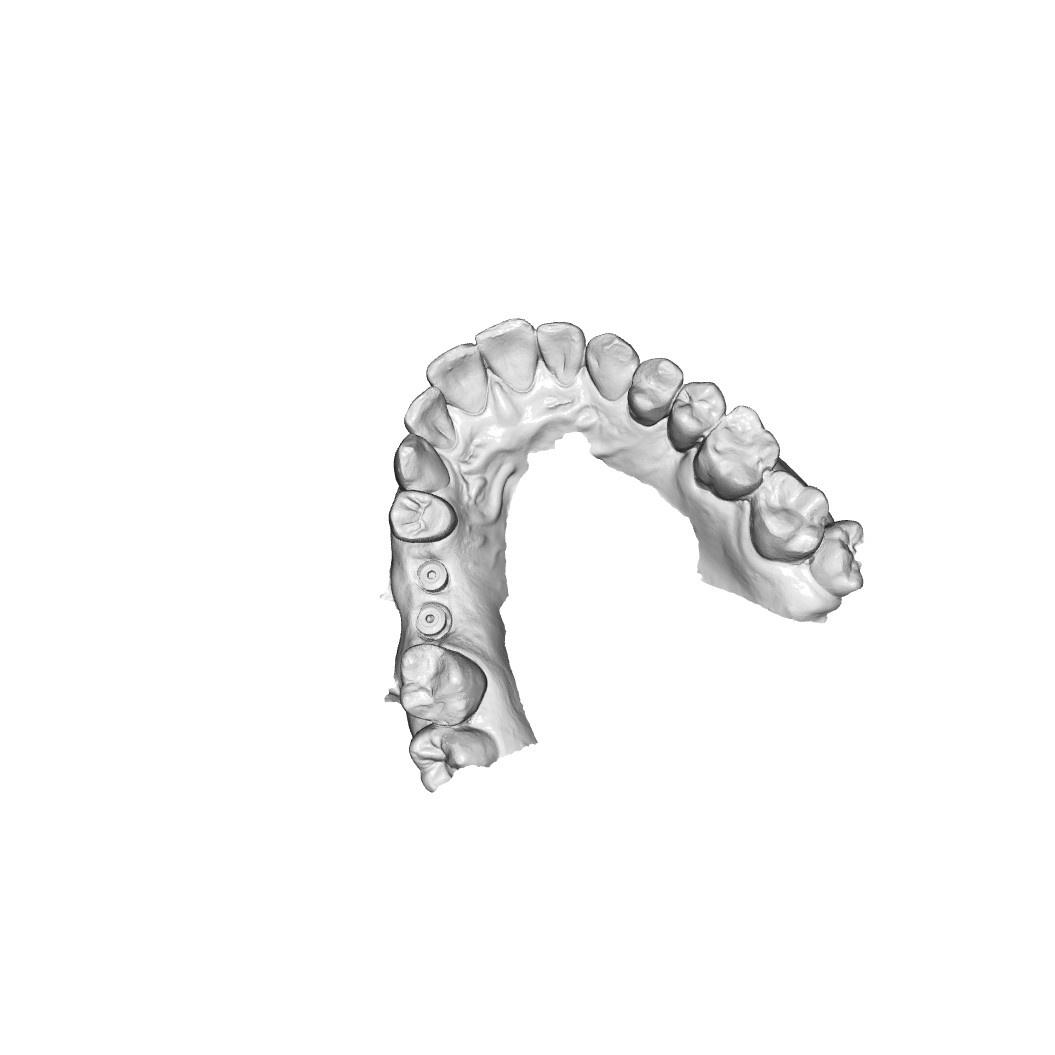canine: (586, 331, 637, 402), (396, 437, 457, 492)
implant: (412, 603, 454, 639), (413, 554, 450, 592)
incisor: (475, 315, 547, 396), (428, 343, 489, 418), (401, 388, 460, 452), (542, 322, 586, 386)
molar: (396, 647, 492, 727), (697, 406, 777, 499), (751, 474, 828, 560)
premolar: (667, 382, 728, 450), (387, 489, 459, 545), (628, 361, 684, 423)
